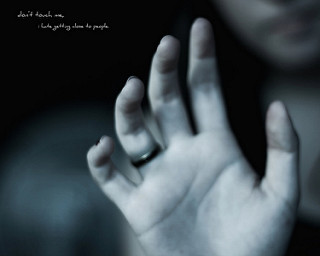palm: (135, 145, 274, 242)
